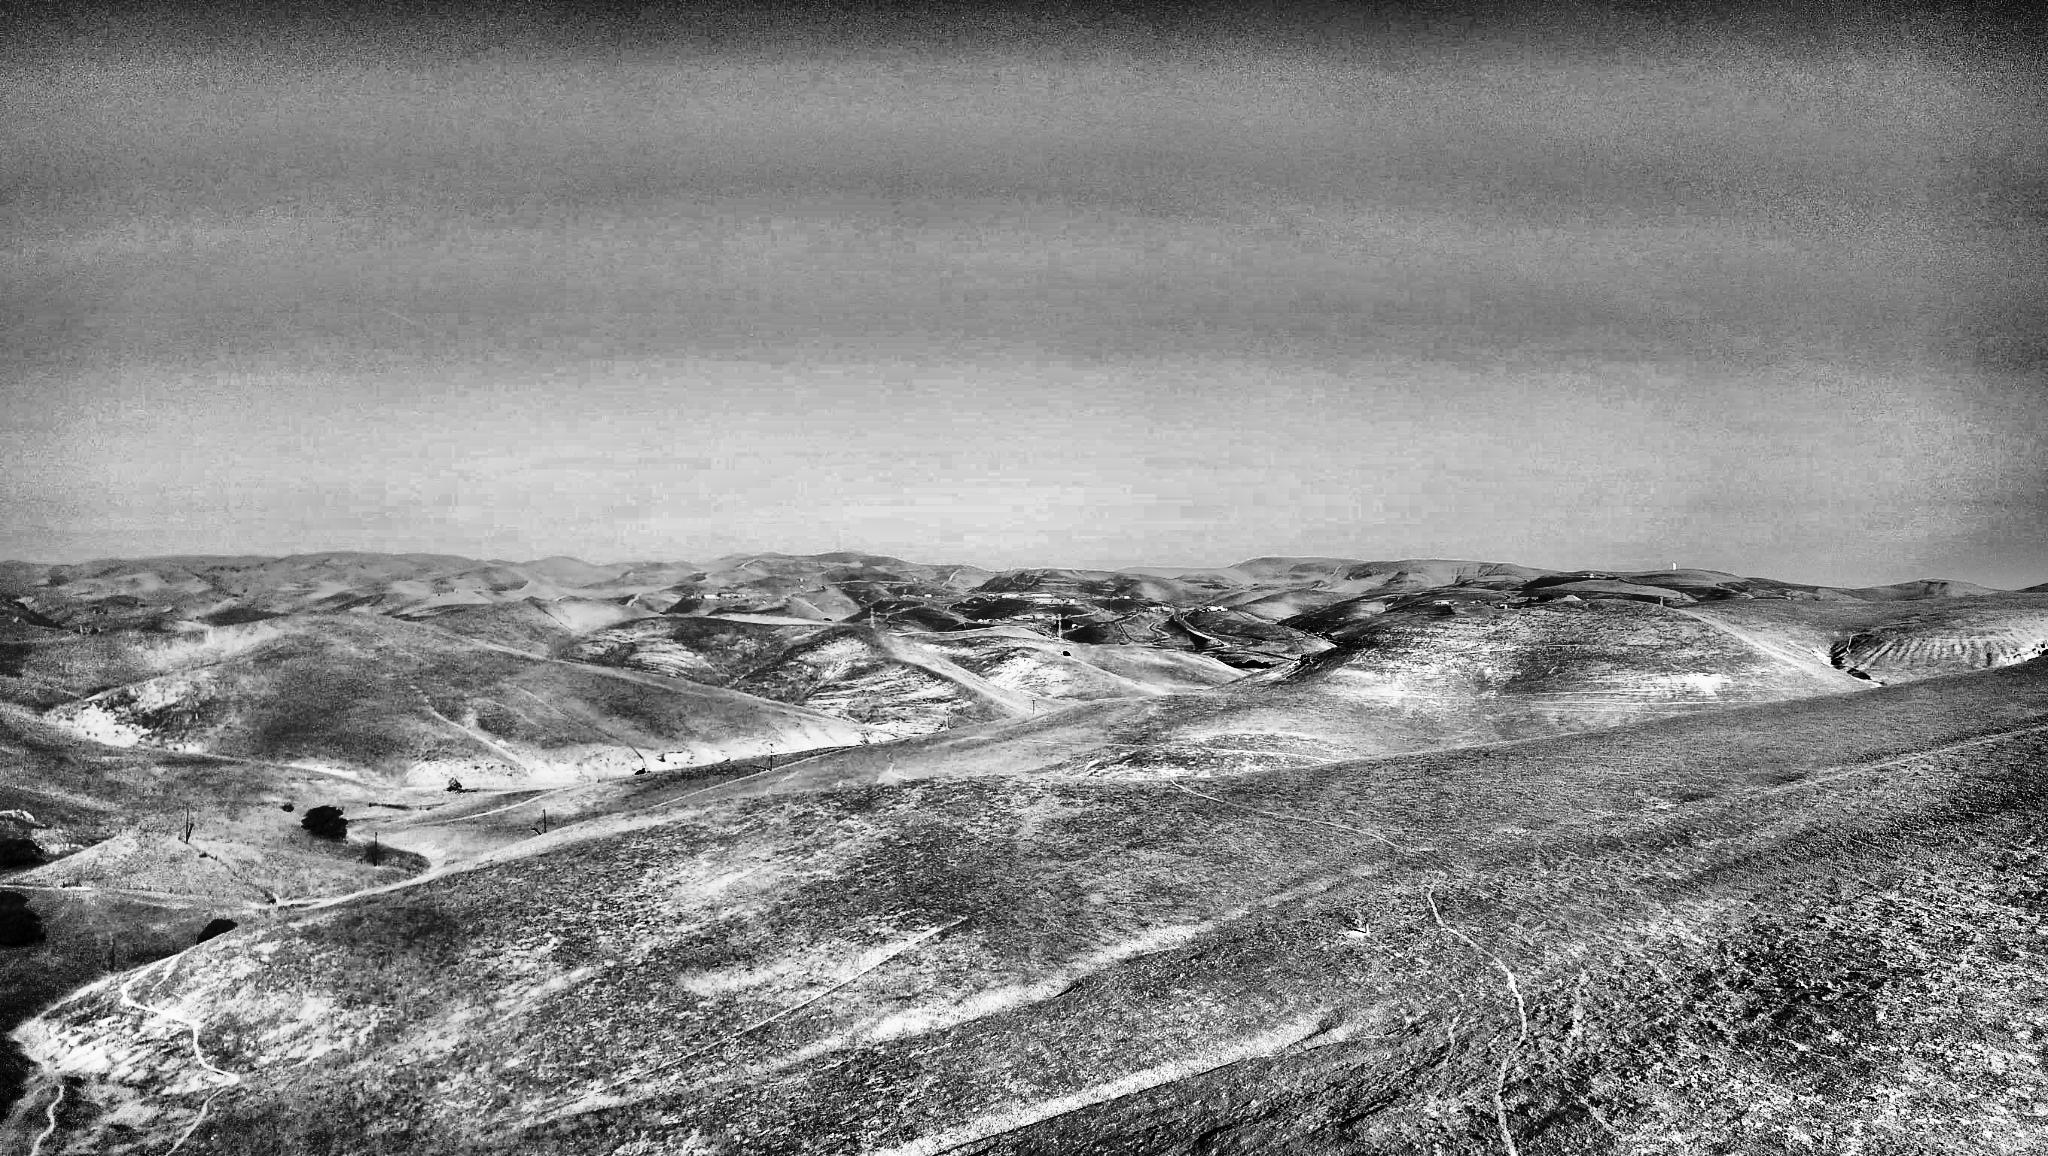herd: (636, 768, 646, 773)
